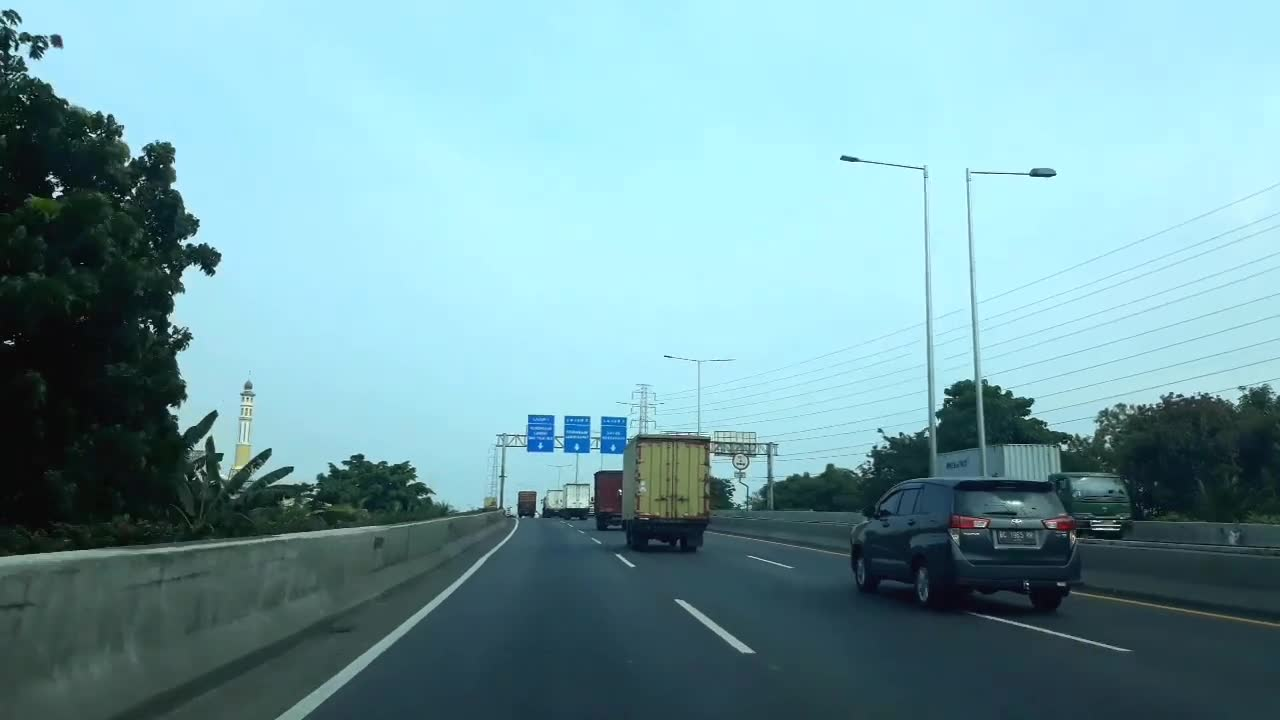plate_positive: (996, 529, 1036, 545)
